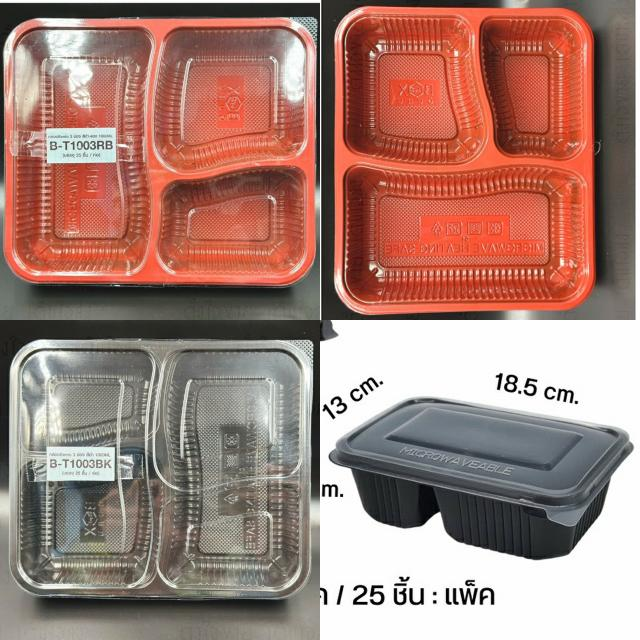Single-Use-Plastic: (5, 18, 316, 285), (335, 8, 594, 314), (10, 340, 312, 599), (330, 398, 632, 559)
